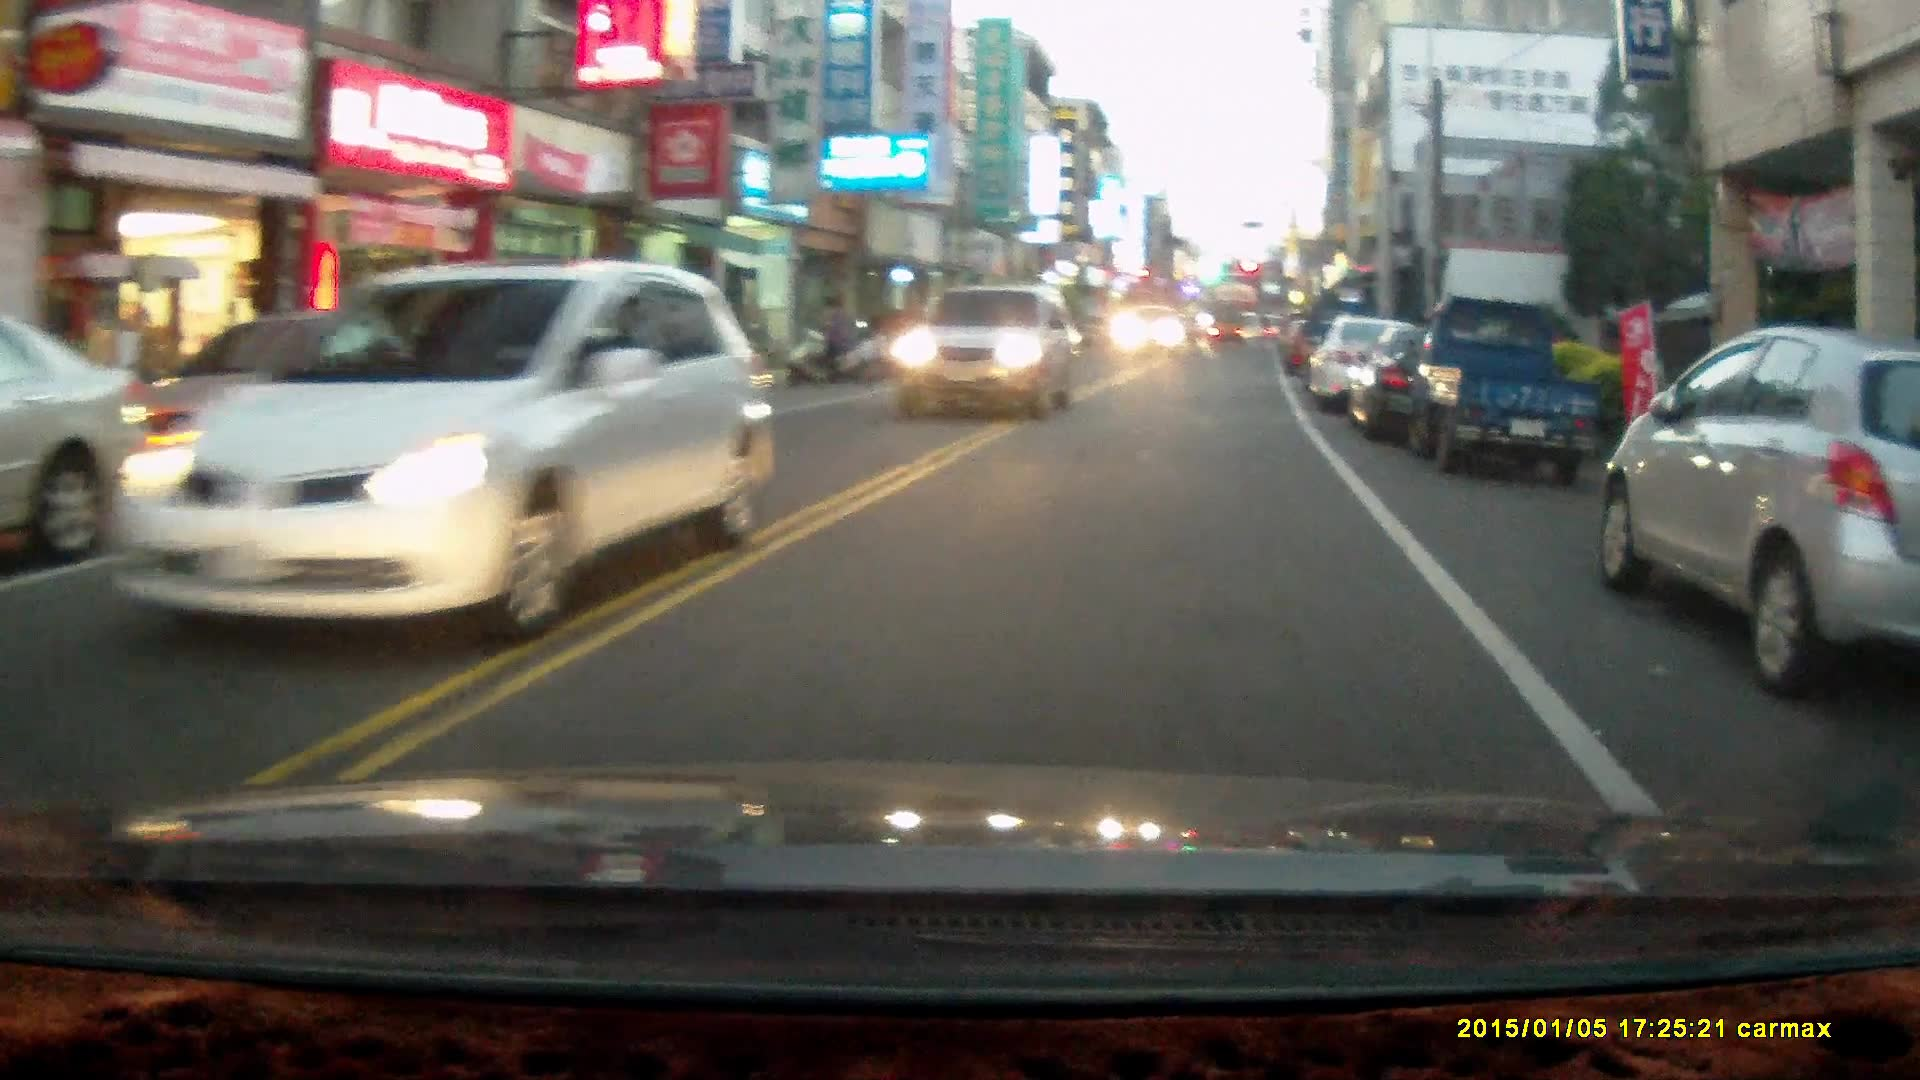pedestrian: (821, 294, 850, 388)
vehicle: (69, 259, 761, 637), (1599, 323, 1920, 699), (1, 309, 161, 576), (1409, 295, 1615, 481), (519, 297, 761, 442), (887, 279, 1085, 417), (1306, 314, 1464, 419), (1117, 301, 1193, 360)
